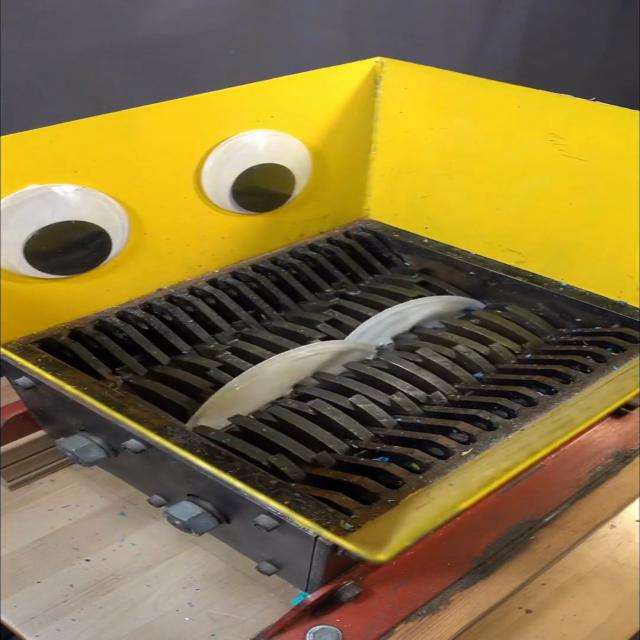Broyeur: (7, 209, 640, 553)
